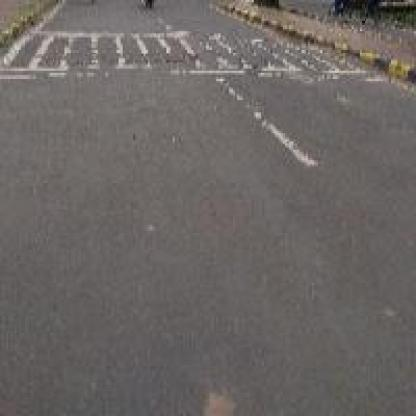Speed Bump: (0, 20, 398, 82)
